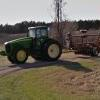Tractor: (3, 18, 64, 66)
